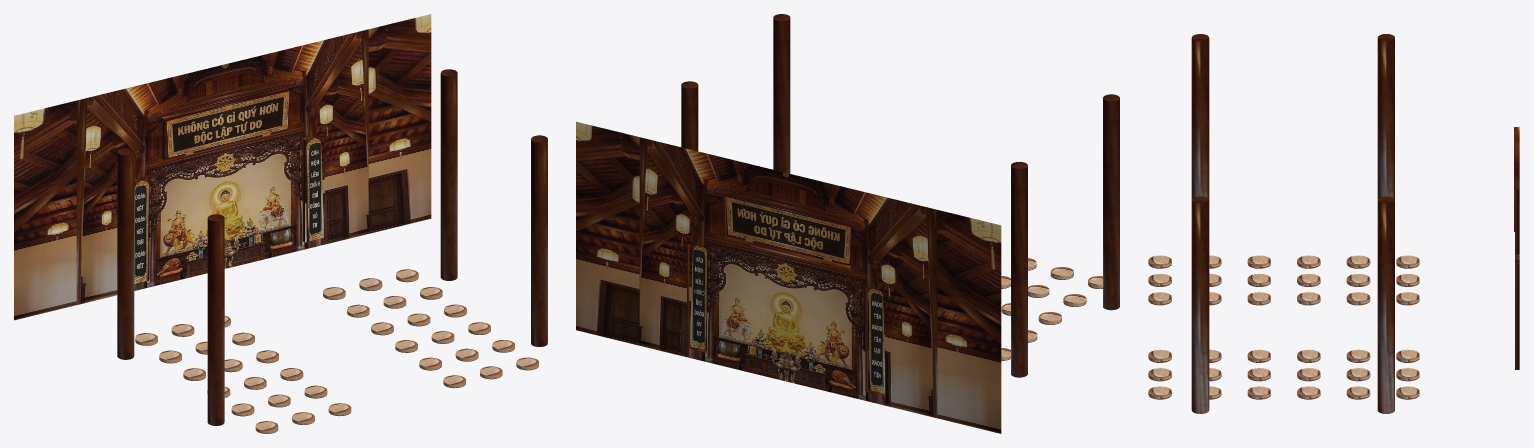
The model's file is chanh_dien_chua_viet.glb.
The picture shows the model from 3 angles, left to right: view 1: azimuth 30°, elevation 25°; view 2: azimuth 150°, elevation 25°; view 3: azimuth 270°, elevation 25°; orthographic projection. The views are drawn at different scales.
Parts seen in each view (by area): view 1: ChanhDien_DaiThienDuong; view 2: ChanhDien_DaiThienDuong; view 3: ChanhDien_DaiThienDuong.
Part boxes in pixels (<box>): ChanhDien_DaiThienDuong: <box>14,14,547,433</box>; ChanhDien_DaiThienDuong: <box>576,14,1119,433</box>; ChanhDien_DaiThienDuong: <box>1148,34,1519,413</box>.
Bounding box in the file's own units: 16 × 7.5 × 11.98.
Materials: 1 (1 with a texture image).
